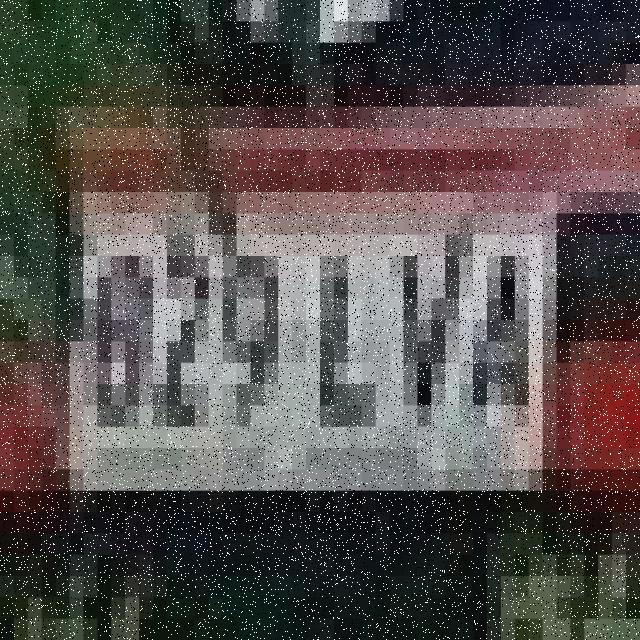licenseplate: (58, 177, 558, 516)
